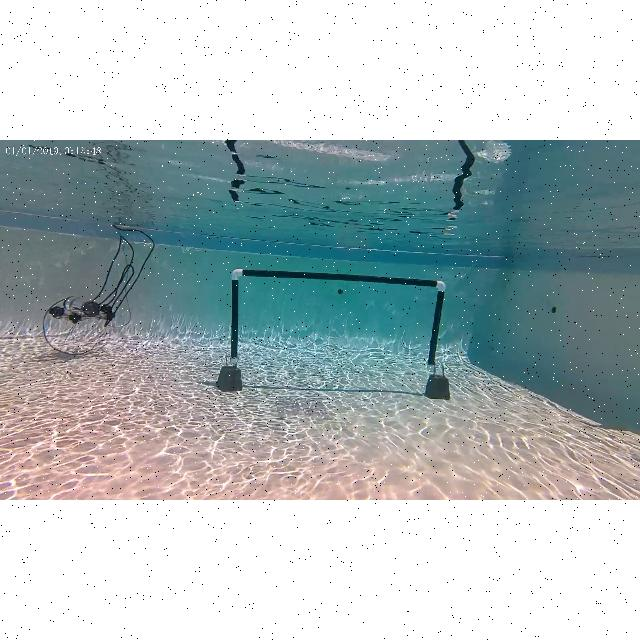prequal gate: (227, 268, 448, 372), (224, 273, 248, 395)
prequal gate leg r: (430, 281, 450, 393)
